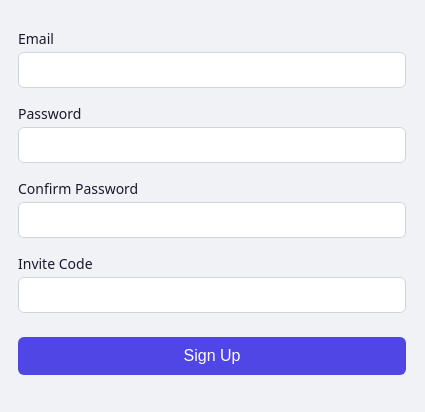
SignupForm › shows error when passwords do not match
The width and height of the screenshot is (425, 412).
Type "test@example.com" into the field labelled "Email" at x=212, y=70, box [18,52,406,88]
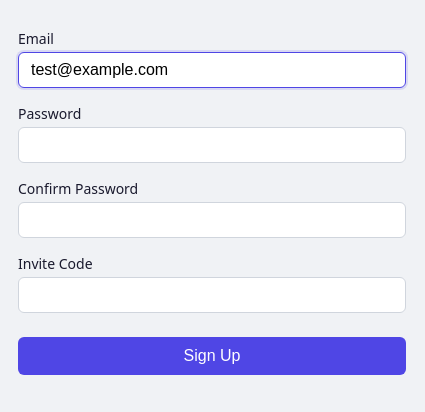
Type "password123" into the password field labelled "Password" at x=212, y=145, box [18,127,406,163]
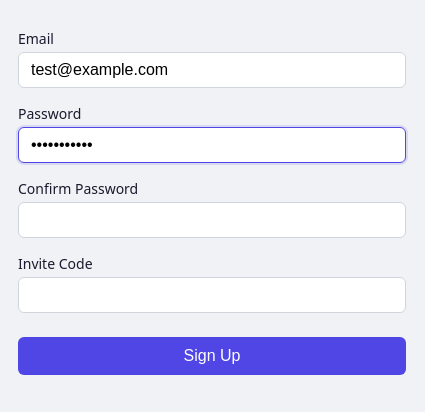
Type "different123" into the password field labelled "Confirm Password" at x=212, y=220, box [18,202,406,238]
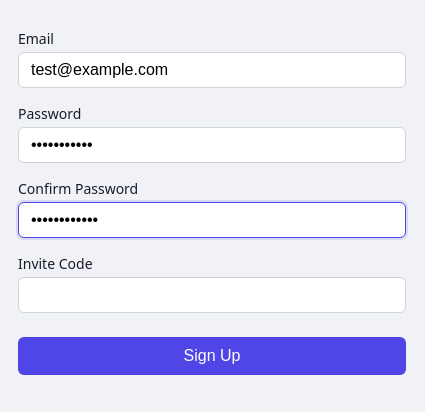
Type "ABC123" into the field labelled "Invite Code" at x=212, y=295, box [18,277,406,313]
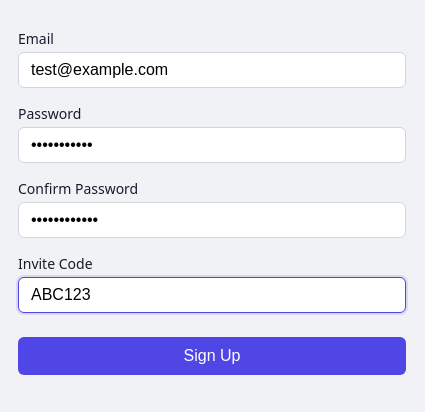
Click the button "Sign Up" at x=212, y=356, box [18,337,406,375]
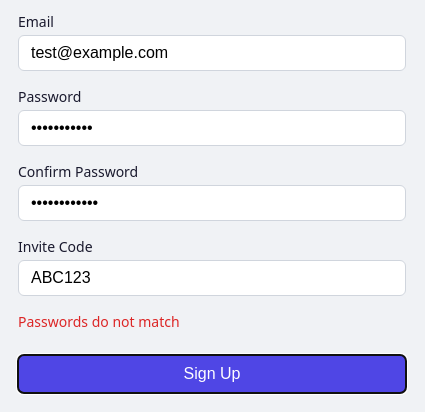
Check: the text "Passwords do not match" is shown, box [18,312,180,330]
